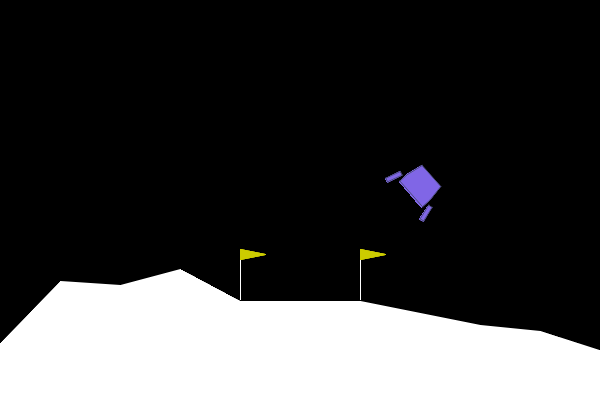lander: (383, 153, 452, 224)
